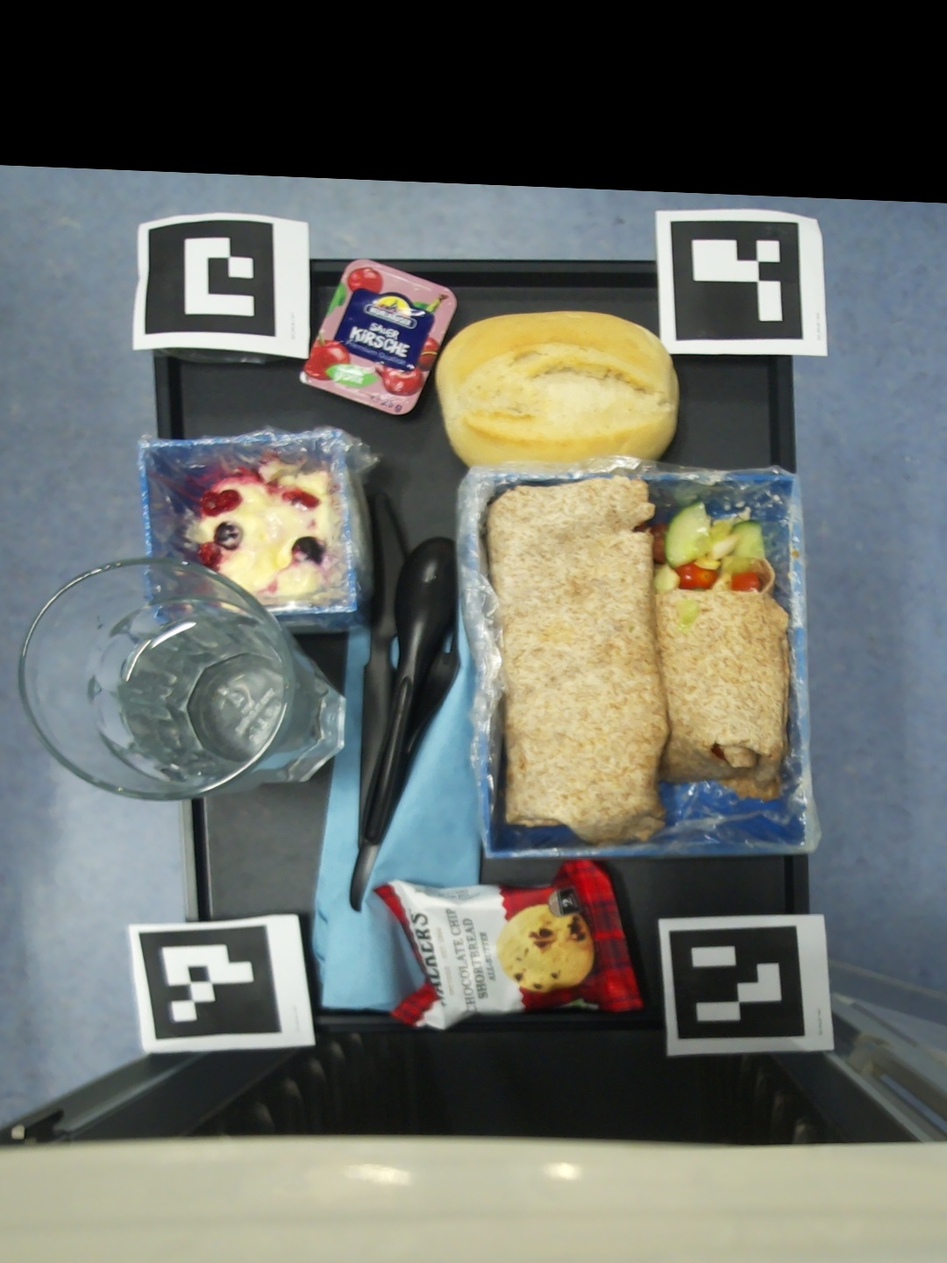bread_roll: (436, 310, 678, 468)
cherry_jam: (300, 259, 456, 413)
cookie: (372, 859, 642, 1030)
vanilla_pudding_with_fruits: (186, 456, 348, 602)
water_bottle: (19, 559, 347, 802)
wrap_half_1: (487, 474, 669, 841)
wrap_half_2: (651, 501, 790, 802)
